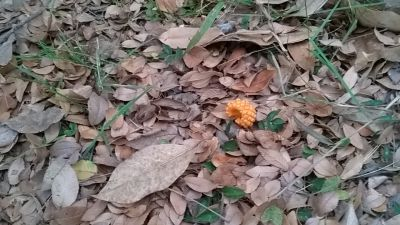eggs: (226, 97, 258, 127)
